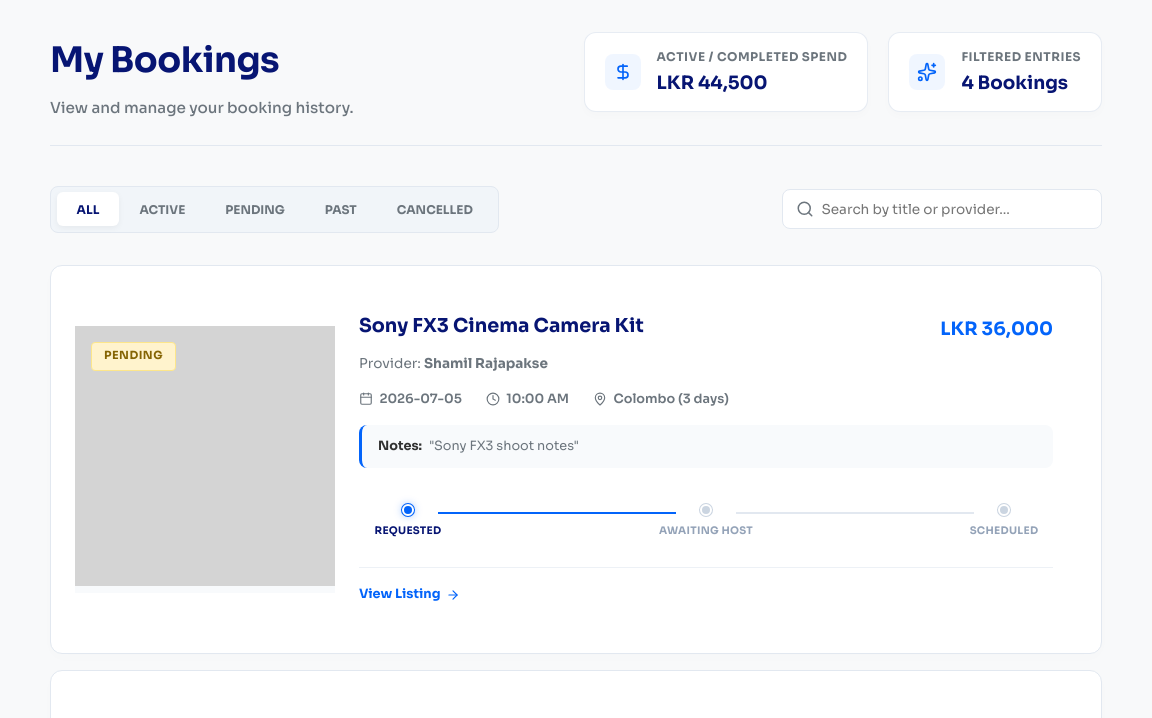
it: BookingHistoryPage › should filter only past (completed) bookings when past tab is selected
The image size is (1152, 718).
Click the tab with test id "tab-past": (341, 209) [305,192,377,226]
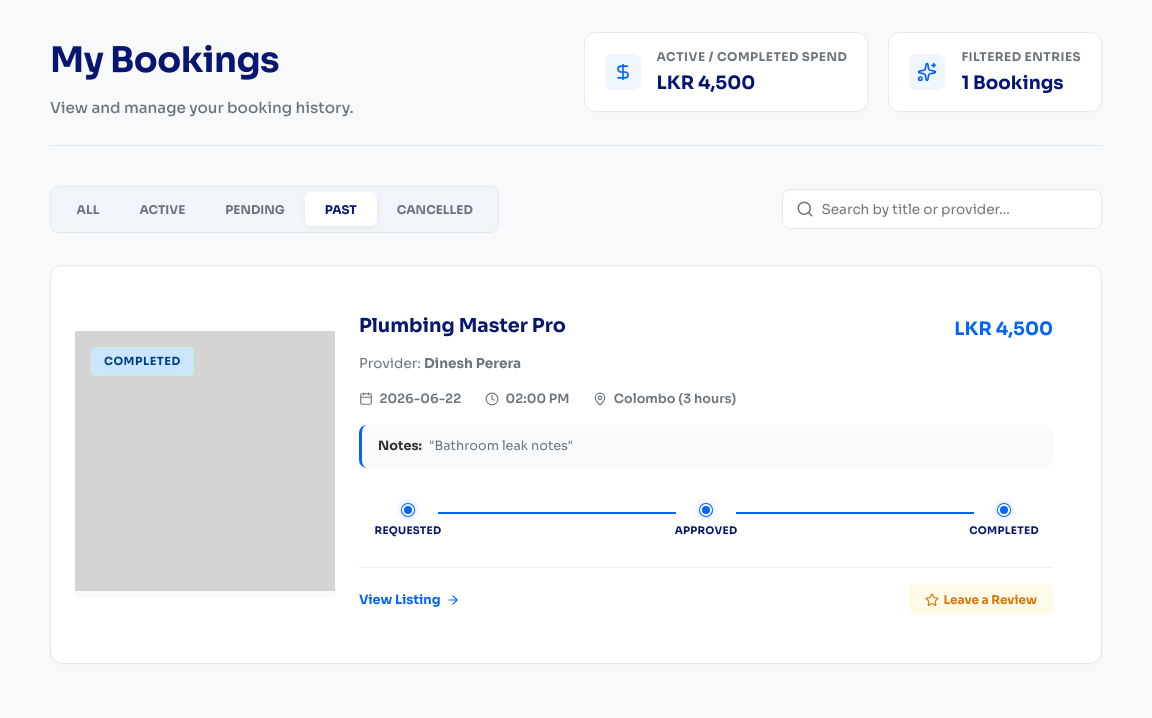
Expected: the heading "Plumbing Master Pro" is shown, [359,314,566,339]
Now the heading "Sony FX3 Cinema Camera Kit" is gone
